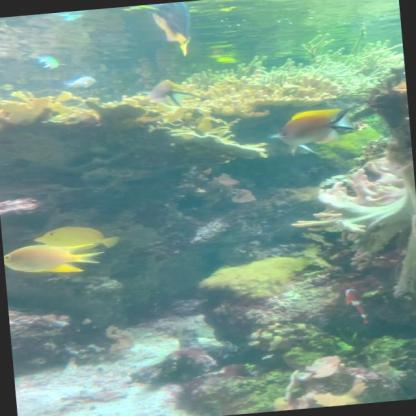fish: (266, 107, 362, 156), (2, 239, 102, 278), (137, 0, 194, 58), (34, 220, 125, 256), (145, 76, 202, 111), (340, 284, 372, 326), (61, 75, 100, 95), (38, 54, 60, 70)
